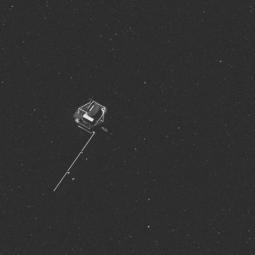earth_observation_sat_1: (47, 86, 130, 196)
